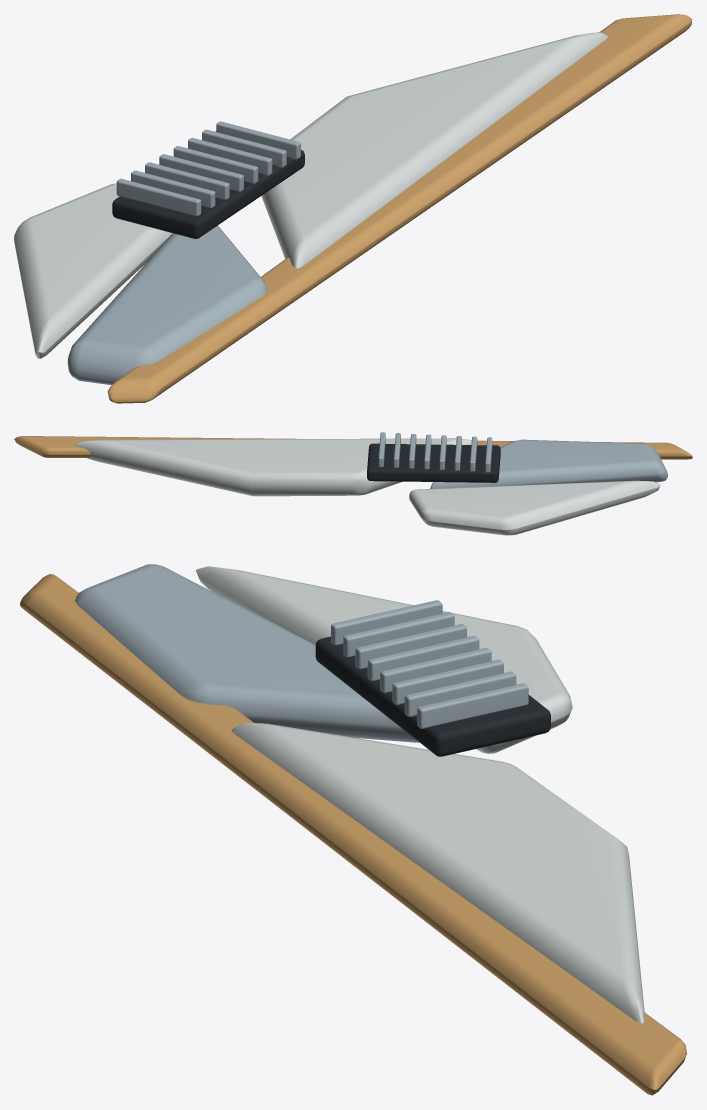
File: debris-wing.glb
The picture shows the model from 3 angles, top to bottom: view 1: azimuth 30°, elevation 25°; view 2: azimuth 150°, elevation 25°; view 3: azimuth 270°, elevation 25°; orthographic projection. The views are drawn at different scales.
Visible parts, largest first — view 1: debris-wing; view 2: debris-wing; view 3: debris-wing.
Boxes of the visible parts, x1,y1,x2,y2 form: debris-wing: [14, 14, 692, 403]; debris-wing: [14, 432, 692, 535]; debris-wing: [20, 564, 686, 1095].
Size of the model in its own units: 1 by 0.0883 by 0.5431.
